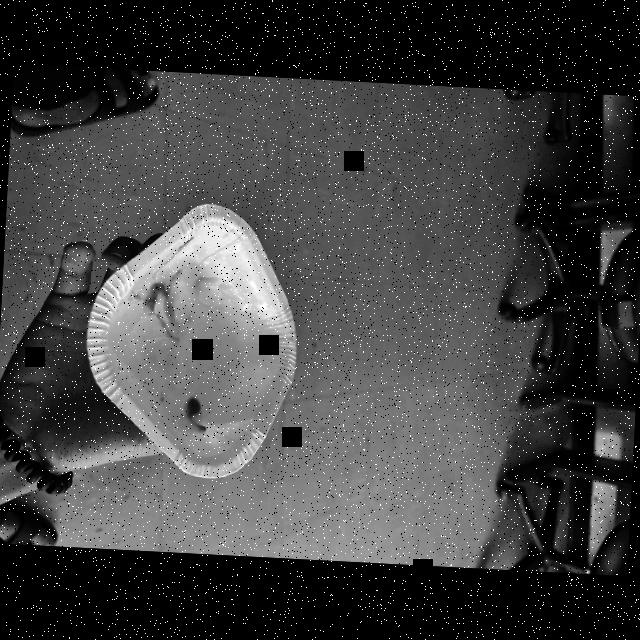cardboard_bowl: (71, 187, 312, 493)
